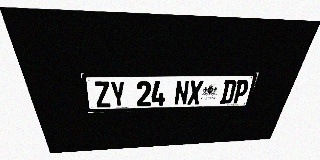2: (137, 81, 151, 106)
4: (151, 81, 166, 106)
D: (219, 80, 237, 104)
N: (174, 80, 190, 105)
P: (232, 80, 250, 103)
X: (187, 80, 203, 105)
Y: (109, 81, 126, 107)
Z: (93, 81, 112, 108)
